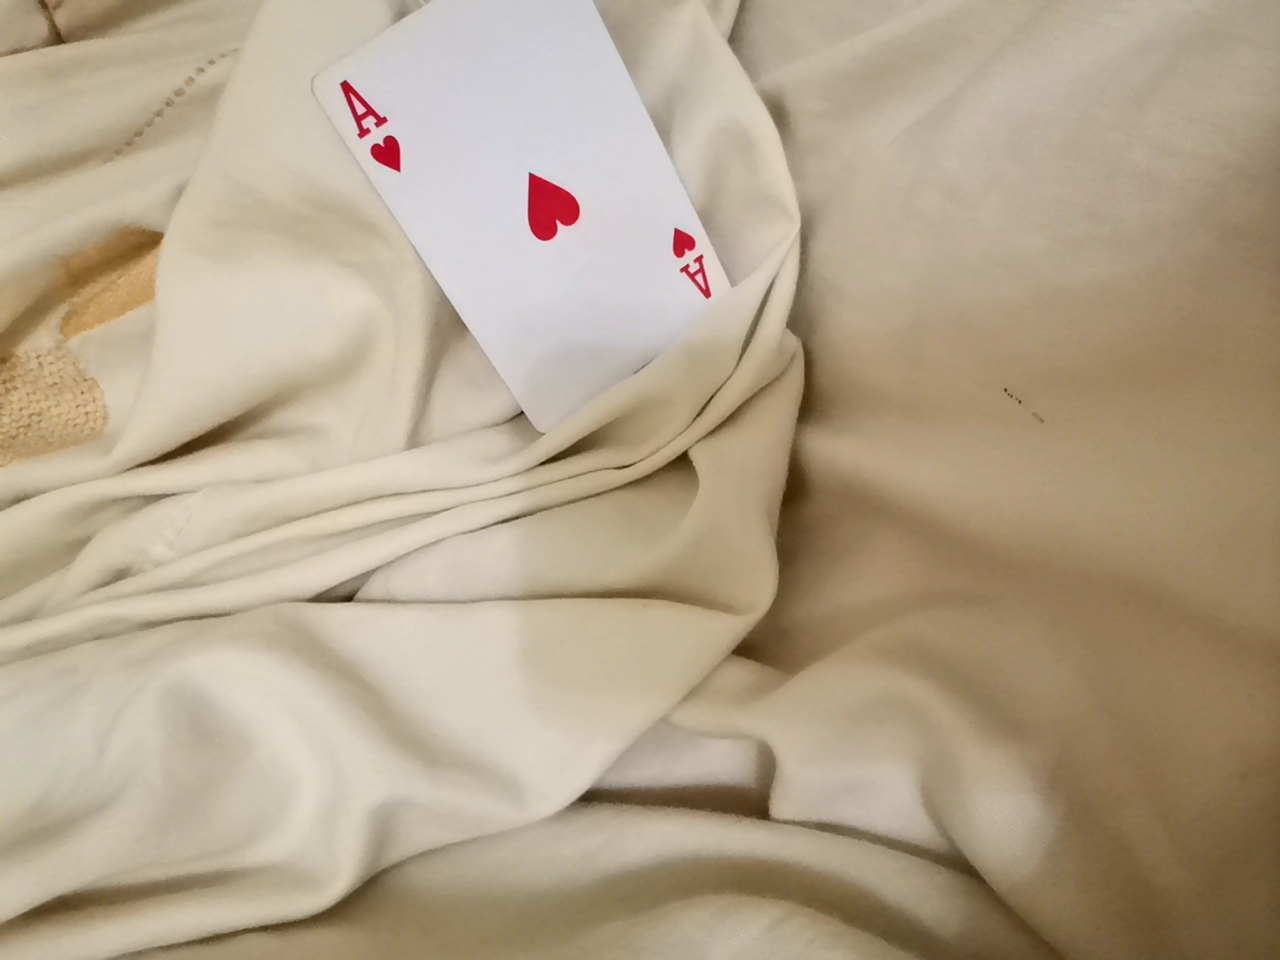hx a: (359, 8, 768, 397)
